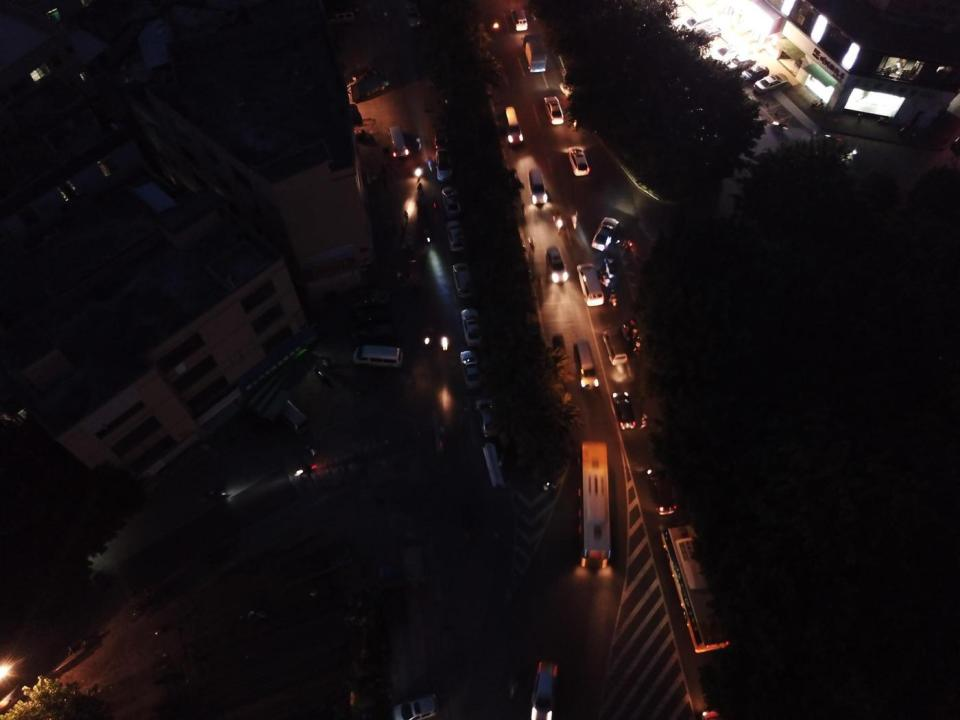bus: (660, 525, 730, 653), (576, 440, 612, 569)
car: (530, 660, 558, 720), (646, 464, 678, 515), (392, 692, 439, 720), (576, 263, 604, 305), (590, 216, 620, 252), (474, 397, 500, 437), (611, 390, 636, 430), (460, 349, 484, 389), (545, 245, 569, 284), (460, 309, 484, 346), (452, 262, 476, 298), (752, 72, 789, 94), (434, 148, 455, 183), (723, 53, 757, 74), (567, 146, 590, 177), (691, 24, 722, 47), (445, 220, 467, 252), (739, 63, 770, 84), (544, 94, 564, 126), (442, 186, 462, 218), (430, 123, 452, 149), (707, 44, 738, 62), (403, 1, 422, 27)
truck: (350, 74, 390, 103), (523, 34, 547, 72)
van: (573, 340, 599, 390), (353, 343, 403, 369), (277, 398, 311, 435), (602, 329, 630, 366), (502, 105, 525, 146), (527, 168, 549, 204), (387, 125, 410, 157), (682, 12, 712, 34), (326, 7, 356, 26), (511, 7, 528, 31)
